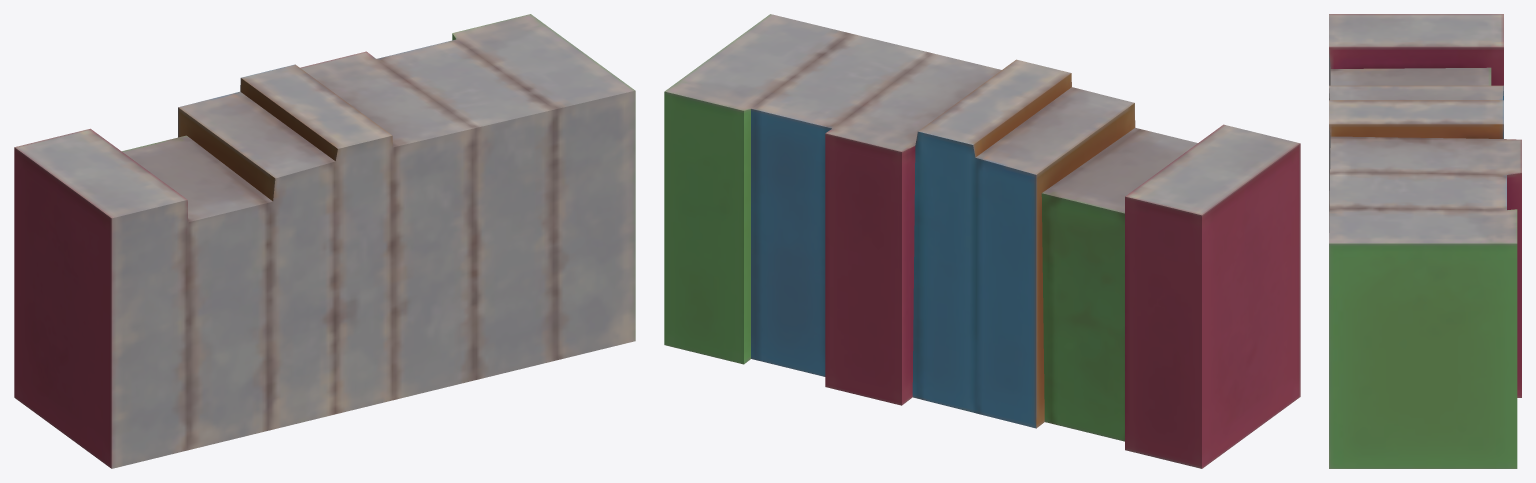
The model's file is Pfb_Indoors_Books__5.fbx.
3 renders of one model, left to right at view 1: azimuth 30°, elevation 25°; view 2: azimuth 150°, elevation 25°; view 3: azimuth 270°, elevation 25°, orthographic. The views are drawn at different scales.
Parts seen in each view (by area): view 1: Mat_Indoors_Books_01; view 2: Mat_Indoors_Books_01; view 3: Mat_Indoors_Books_01.
Boxes of the visible parts, x1,y1,x2,y2 form: Mat_Indoors_Books_01: (14,14,635,468); Mat_Indoors_Books_01: (664,14,1300,468); Mat_Indoors_Books_01: (1329,14,1521,468).
Size of the model in its own units: 0.9648 by 0.4662 by 0.3425.
Materials: 1 (1 with a texture image).
